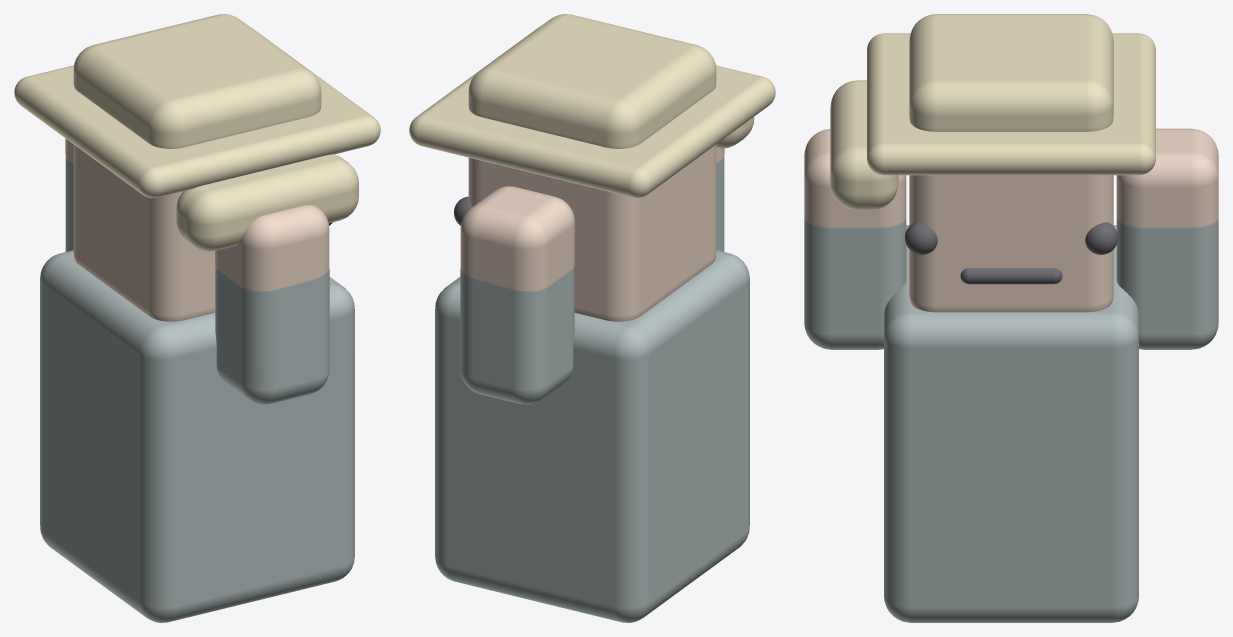
File: farmer_hands_up.gltf
3 renders of one model, left to right at view 1: azimuth 30°, elevation 25°; view 2: azimuth 150°, elevation 25°; view 3: azimuth 270°, elevation 25°, orthographic. The views are drawn at different scales.
Visible parts, largest first — view 1: Body, Hat_Top, Hat_Bottom, Head, Right_Arm, Brushel, Right_Hand, Left Arm; view 2: Body, Hat_Top, Head, Hat_Bottom, Left Arm, Left_Hand, Right_Arm; view 3: Body, Head, Hat_Top, Hat_Bottom, Right_Arm, Left Arm, Left_Hand, Brushel, Right_Hand, Mouth, Left_Eye, Right_Eye.
Boxes of the visible parts, box(x1,y1,x2,y2) form: Body: box(40, 250, 354, 622); Hat_Top: box(73, 14, 321, 148); Hat_Bottom: box(14, 27, 380, 198); Head: box(73, 144, 215, 321); Right_Arm: box(215, 266, 329, 404); Brushel: box(176, 154, 358, 251); Right_Hand: box(215, 205, 329, 291); Left Arm: box(65, 157, 73, 251); Body: box(435, 250, 749, 622); Hat_Top: box(468, 14, 716, 148); Head: box(468, 144, 716, 321); Hat_Bottom: box(409, 27, 775, 198); Left Arm: box(460, 266, 574, 404); Left_Hand: box(460, 186, 574, 291); Right_Arm: box(716, 157, 724, 251); Body: box(884, 225, 1138, 622); Head: box(909, 175, 1113, 312); Hat_Top: box(909, 14, 1113, 131); Hat_Bottom: box(867, 33, 1155, 175); Right_Arm: box(804, 218, 906, 349); Left Arm: box(1116, 218, 1218, 349); Left_Hand: box(1116, 128, 1218, 227); Brushel: box(830, 80, 898, 210); Right_Hand: box(804, 129, 906, 227); Mouth: box(960, 268, 1062, 284); Left_Eye: box(905, 222, 937, 254); Right_Eye: box(1085, 222, 1117, 254).
Bounding box in the file's own units: 0.85 × 1.72 × 1.22.
